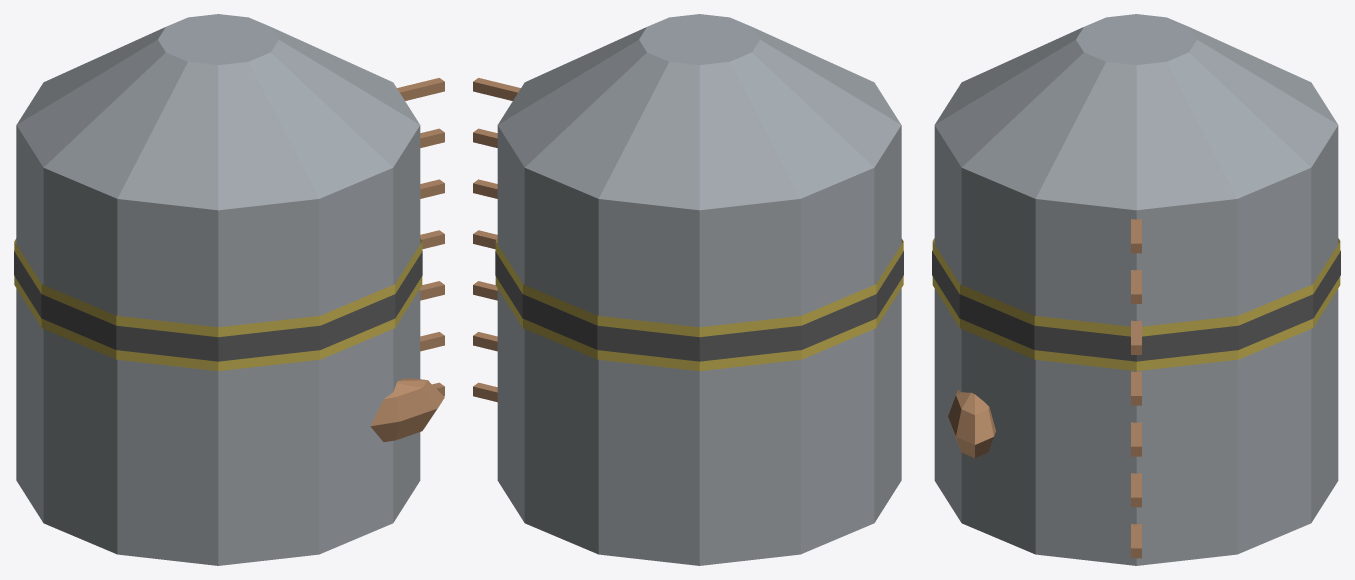
Rendered from valak_tanque_2.glb.
3 views of the same model, side by side, from view 1: azimuth 30°, elevation 25°; view 2: azimuth 150°, elevation 25°; view 3: azimuth 270°, elevation 25° (orthographic).
Parts seen in each view (by area): view 1: tanque; view 2: tanque; view 3: tanque.
Boxes of the visible parts, bbox=[...] form: tanque: bbox=[14, 14, 444, 565]; tanque: bbox=[473, 14, 903, 565]; tanque: bbox=[932, 14, 1340, 565].
Size of the model in its own units: 1.72 by 1.81 by 1.52.
